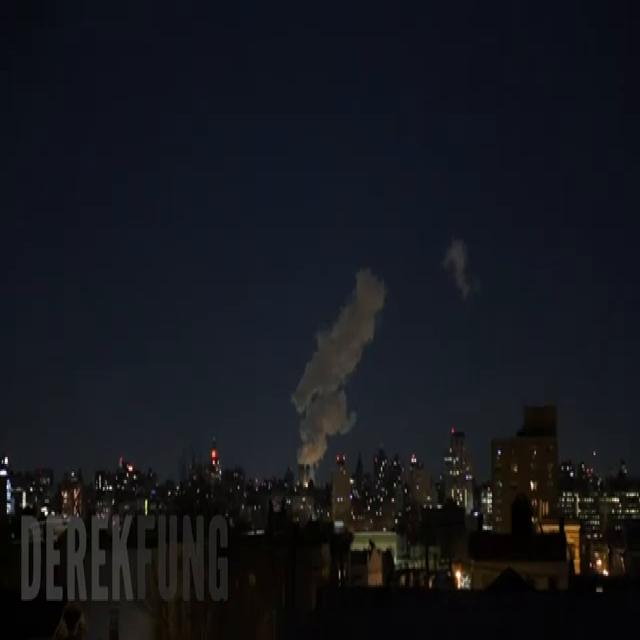smoke: (292, 268, 385, 478)
